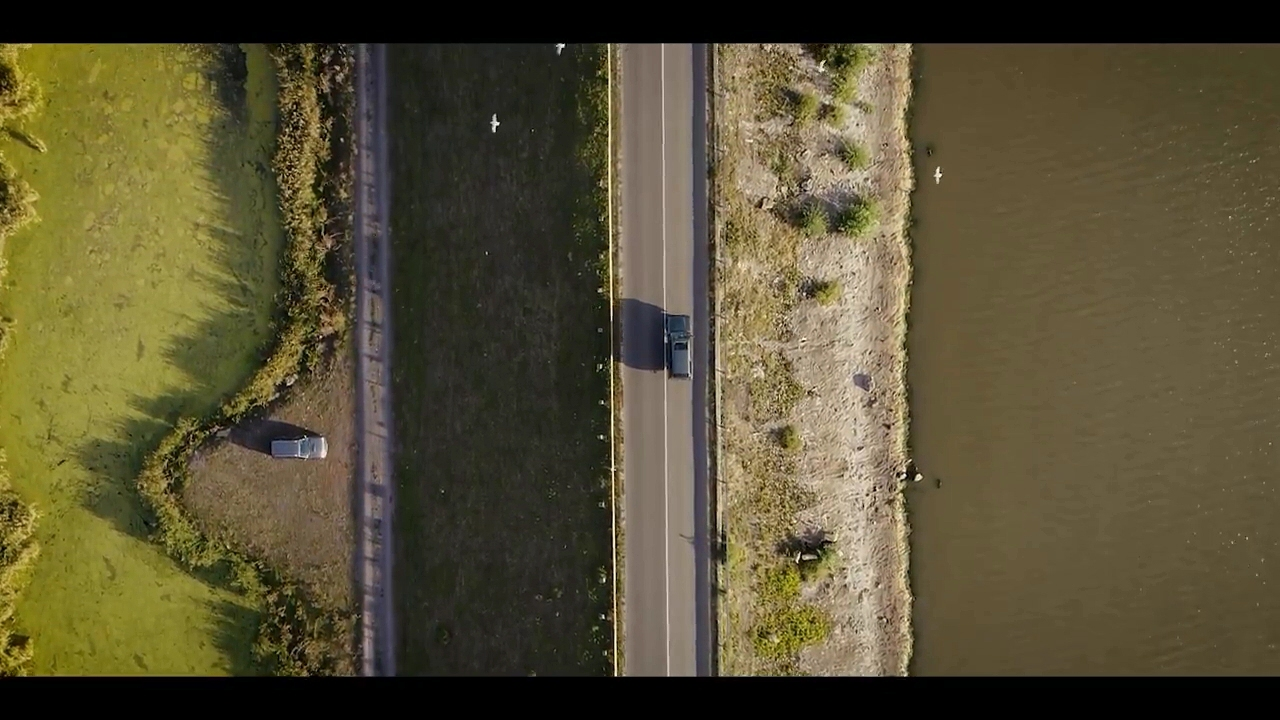araba: (268, 432, 332, 464), (664, 313, 692, 382)
